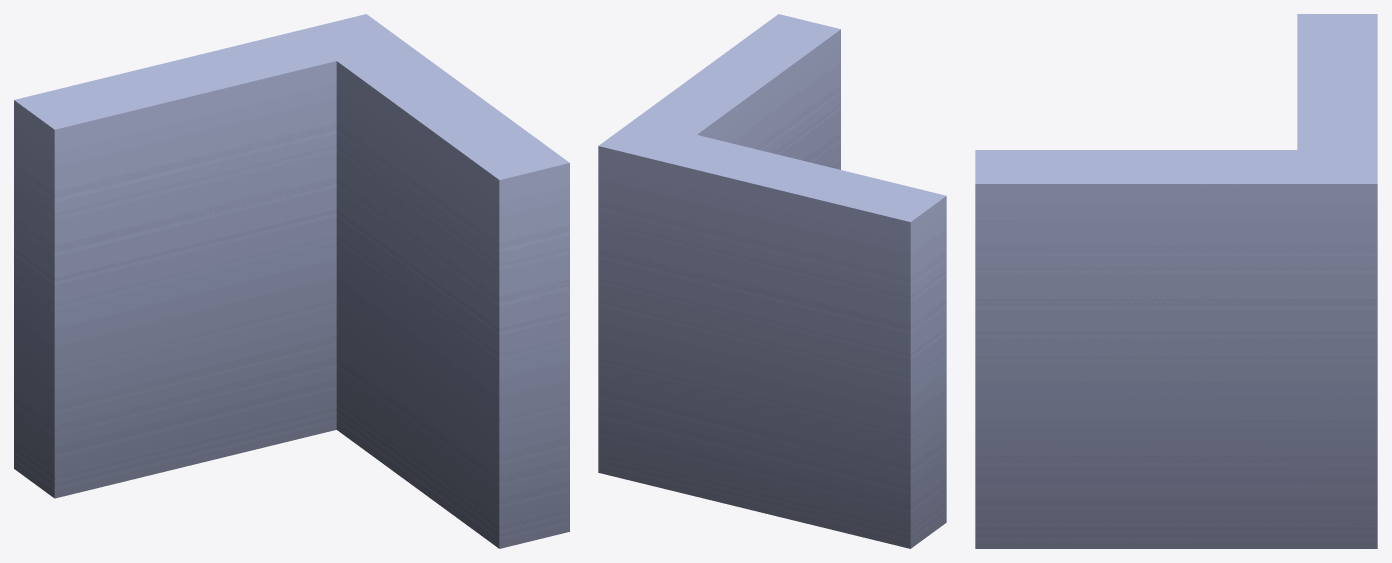
The model's file is wall-corner.glb.
The picture shows the model from 3 angles, left to right: view 1: azimuth 30°, elevation 25°; view 2: azimuth 150°, elevation 25°; view 3: azimuth 270°, elevation 25°; orthographic projection. The views are drawn at different scales.
Parts seen in each view (by area): view 1: wall-corner; view 2: wall-corner; view 3: wall-corner.
Boxes of the visible parts, x1,y1,x2,y2 form: wall-corner: (14,14,569,548); wall-corner: (598,14,946,548); wall-corner: (975,14,1377,548).
Bounding box in the file's own units: 1 × 1 × 1.
1 material, 1 textured.
